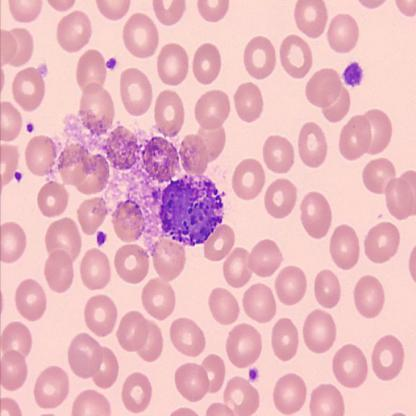Basophil: (158, 170, 226, 247)
